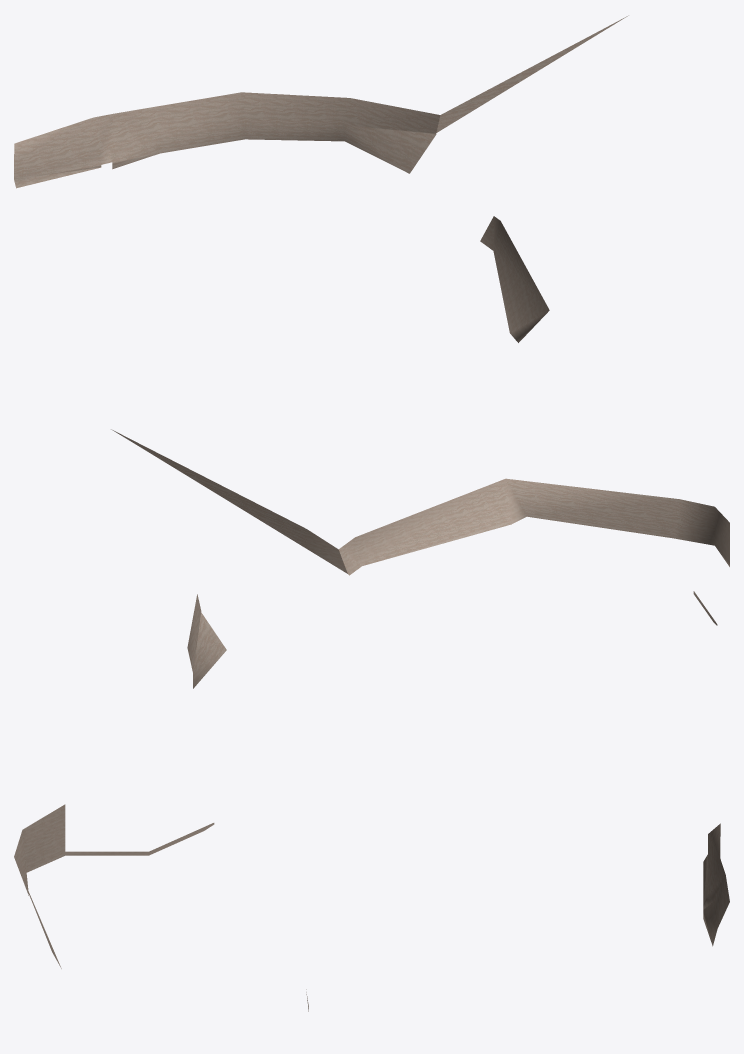
The model's file is kd_stage_136282_1_39_bounded.glb.
3 views of the same model, one above another, from view 1: azimuth 30°, elevation 25°; view 2: azimuth 150°, elevation 25°; view 3: azimuth 270°, elevation 25° (orthographic). The views are drawn at different scales.
Visible parts, largest first — view 1: kd_stage_136282_1_39_bounded; view 2: kd_stage_136282_1_39_bounded; view 3: kd_stage_136282_1_39_bounded.
Part boxes in pixels (x1,y1,x2,y2): kd_stage_136282_1_39_bounded: [14, 15, 628, 342]; kd_stage_136282_1_39_bounded: [111, 429, 729, 688]; kd_stage_136282_1_39_bounded: [14, 804, 729, 1011].
Size of the model in its own units: 68.91 by 11.85 by 65.49.
Materials: 1 (1 with a texture image).
